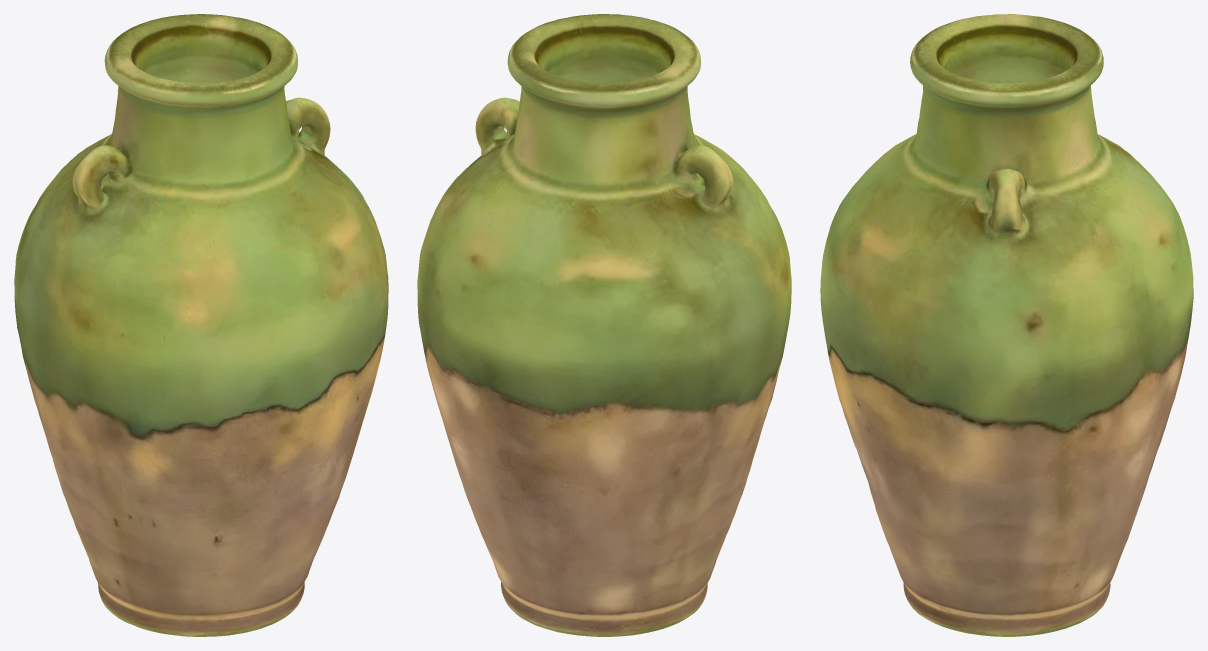
File: cantaro-opt.glb
3 views of the same model, side by side, from view 1: azimuth 30°, elevation 25°; view 2: azimuth 150°, elevation 25°; view 3: azimuth 270°, elevation 25° (orthographic).
Visible parts, largest first — view 1: Mesh_0; view 2: Mesh_0; view 3: Mesh_0.
Part boxes in pixels (box(x1,y1,x2,y2)): Mesh_0: box(14, 14, 388, 636); Mesh_0: box(417, 14, 791, 636); Mesh_0: box(820, 14, 1193, 636).
Bounding box in the file's own units: 1.18 × 1.91 × 1.18.
Materials: 1 (1 with a texture image).
